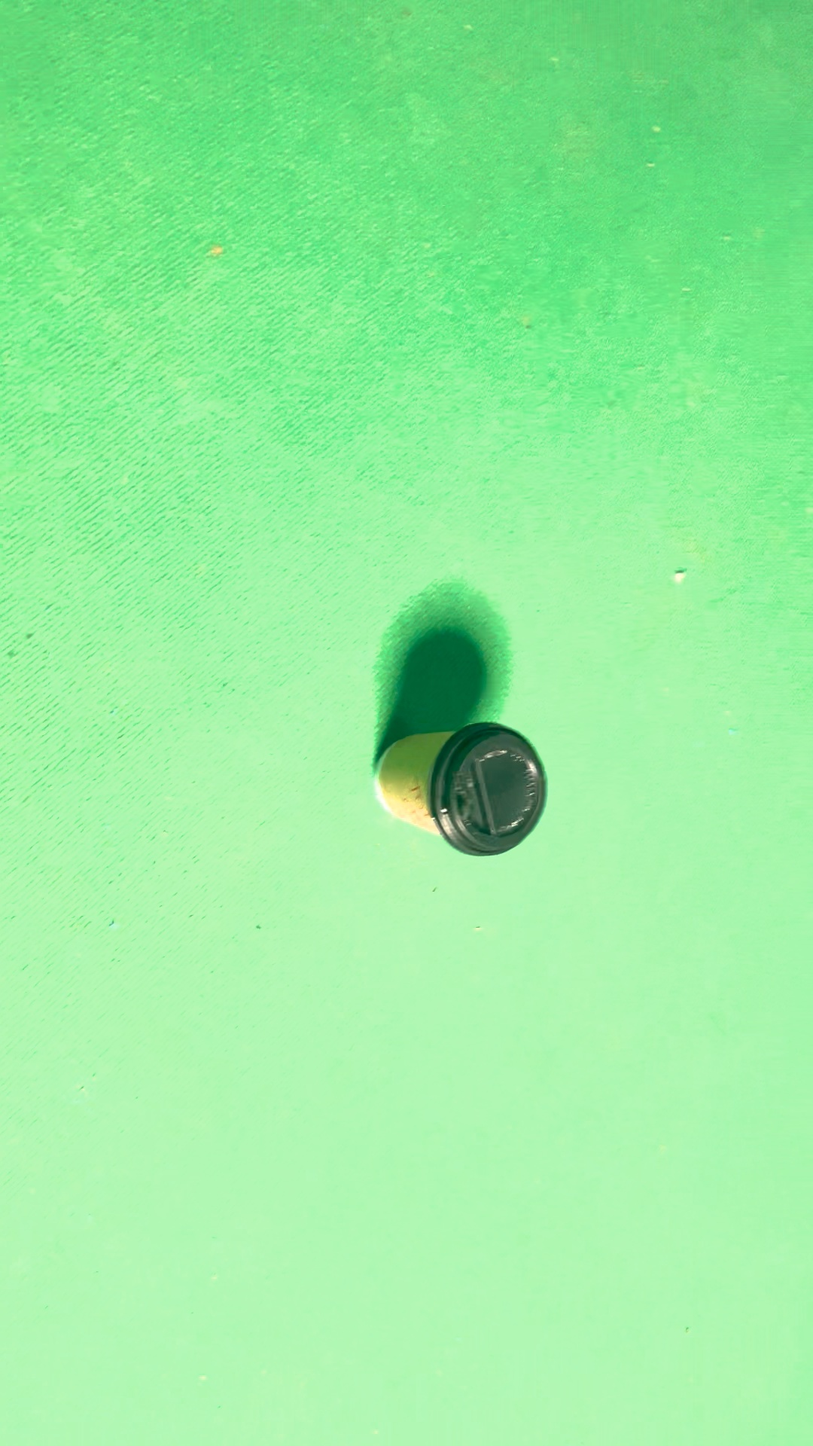cup: (408, 481, 490, 882)
